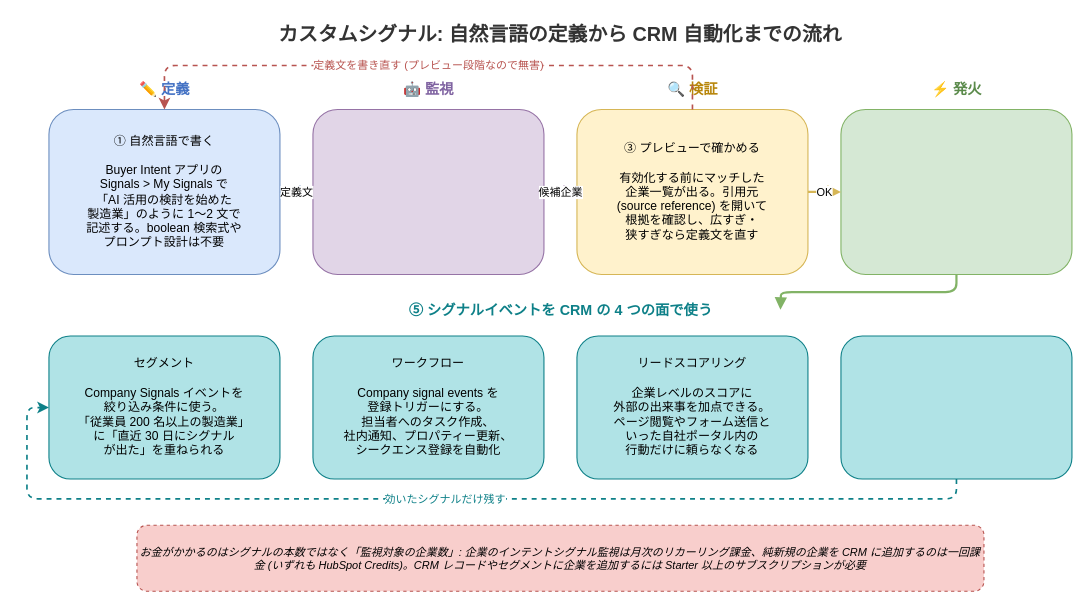
This 1092x611 diagram has some shape labels left out. Each missing label, with the box of its shape:
② AI が調べ続ける HubSpot の AI が Web や データソースを継続的に モニタリングし、トラッキング 対象の企業が定義に 合致したかを判定する: (312, 108, 544, 274)
④ 有効化する Activate するとシグナルが 稼働し、検知のたびに 企業レコードのタイムラインに シグナルイベントが 記録される: (840, 108, 1072, 274)
レポート どのシグナルが商談や 受注につながり、どれが ノイズだったかを測る。 この結果を見て定義文を 育てていく: (840, 335, 1072, 479)
